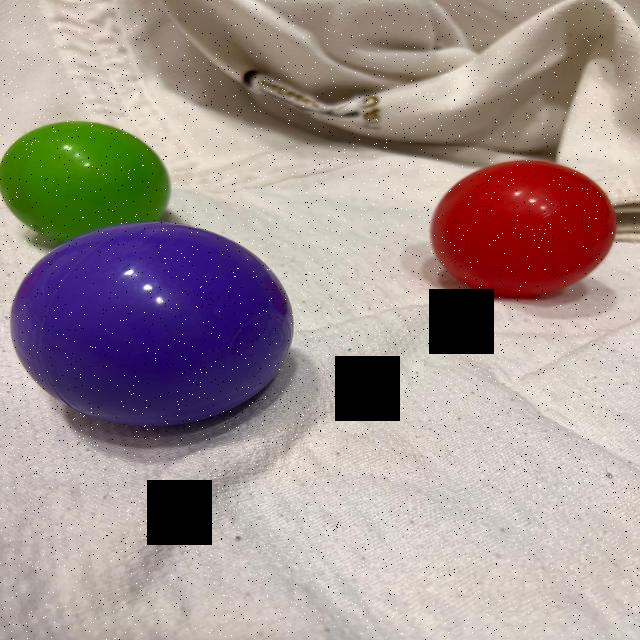ball: (11, 219, 300, 427), (427, 157, 619, 300), (0, 119, 174, 221)
